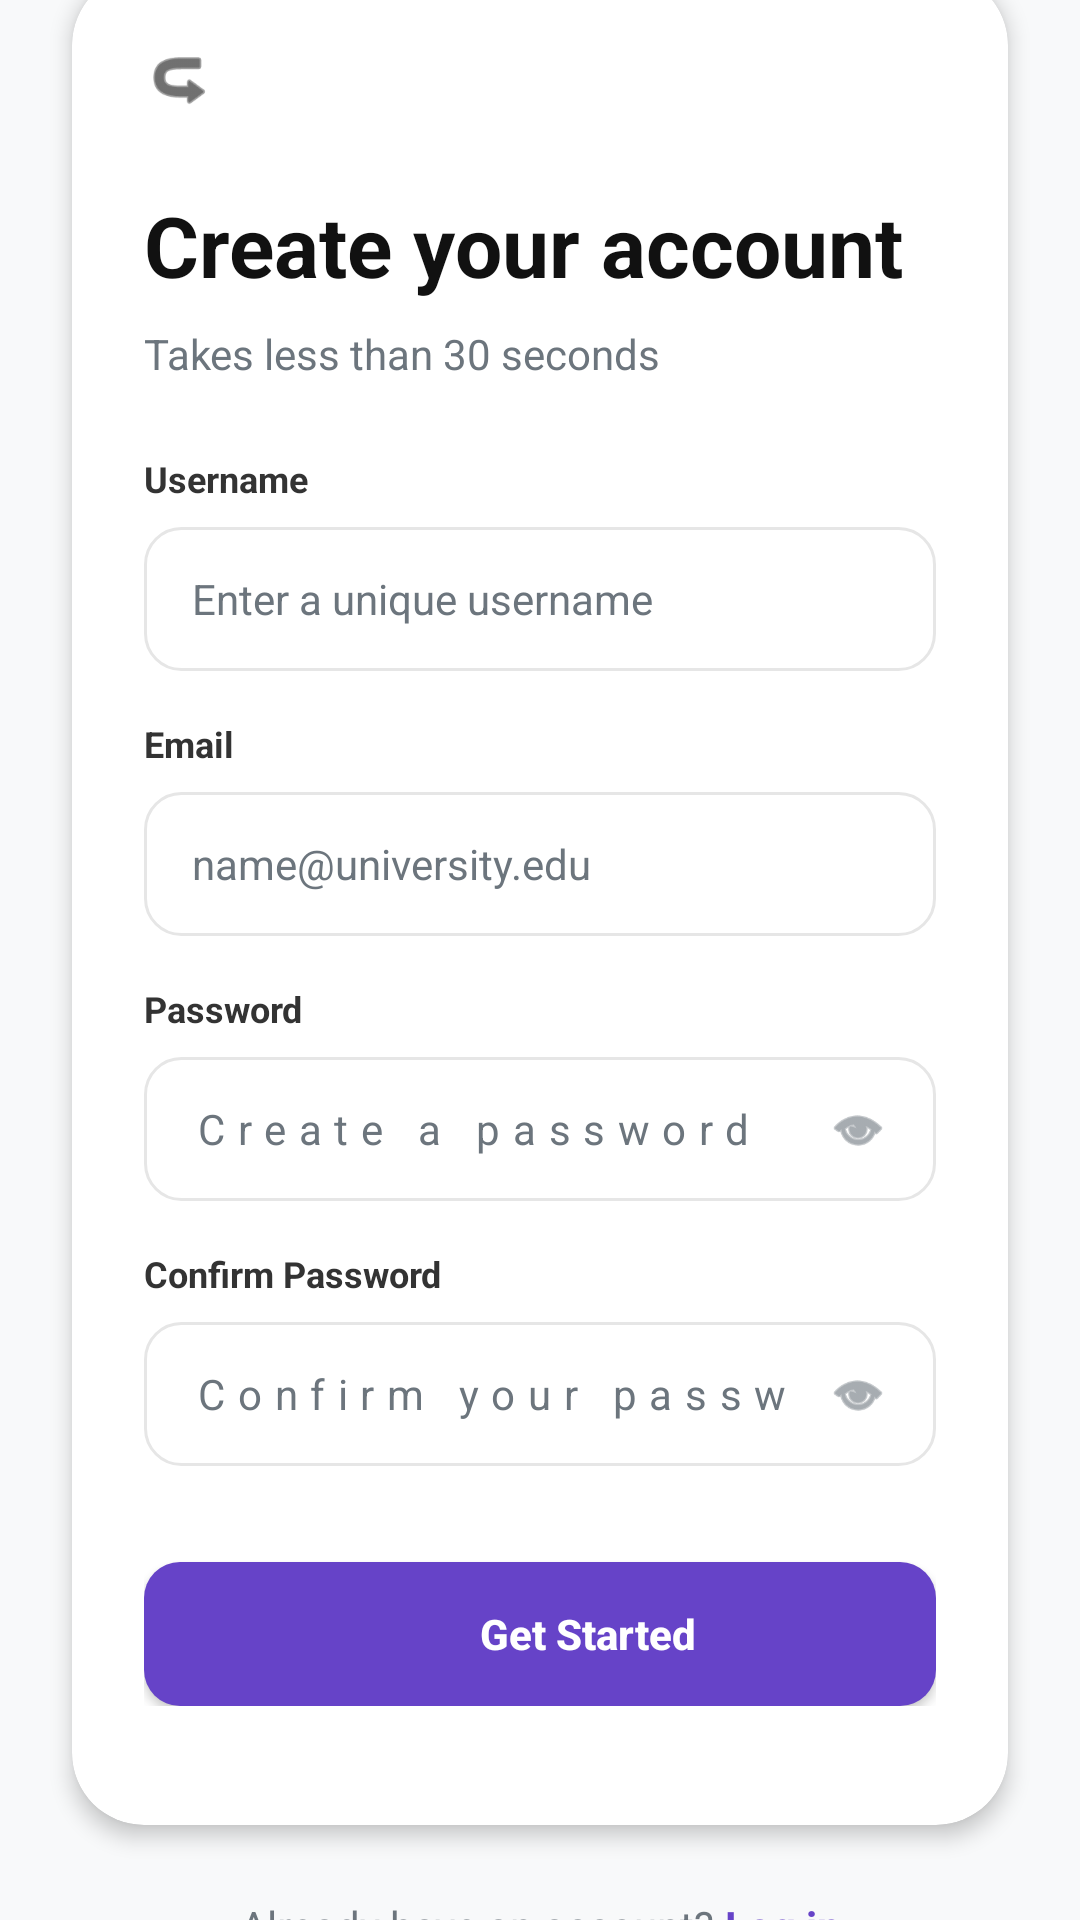

Icon click points for this 1080px×1920px phone screenshot, format [x,y]:
view: [858,1130], [858,1395]
